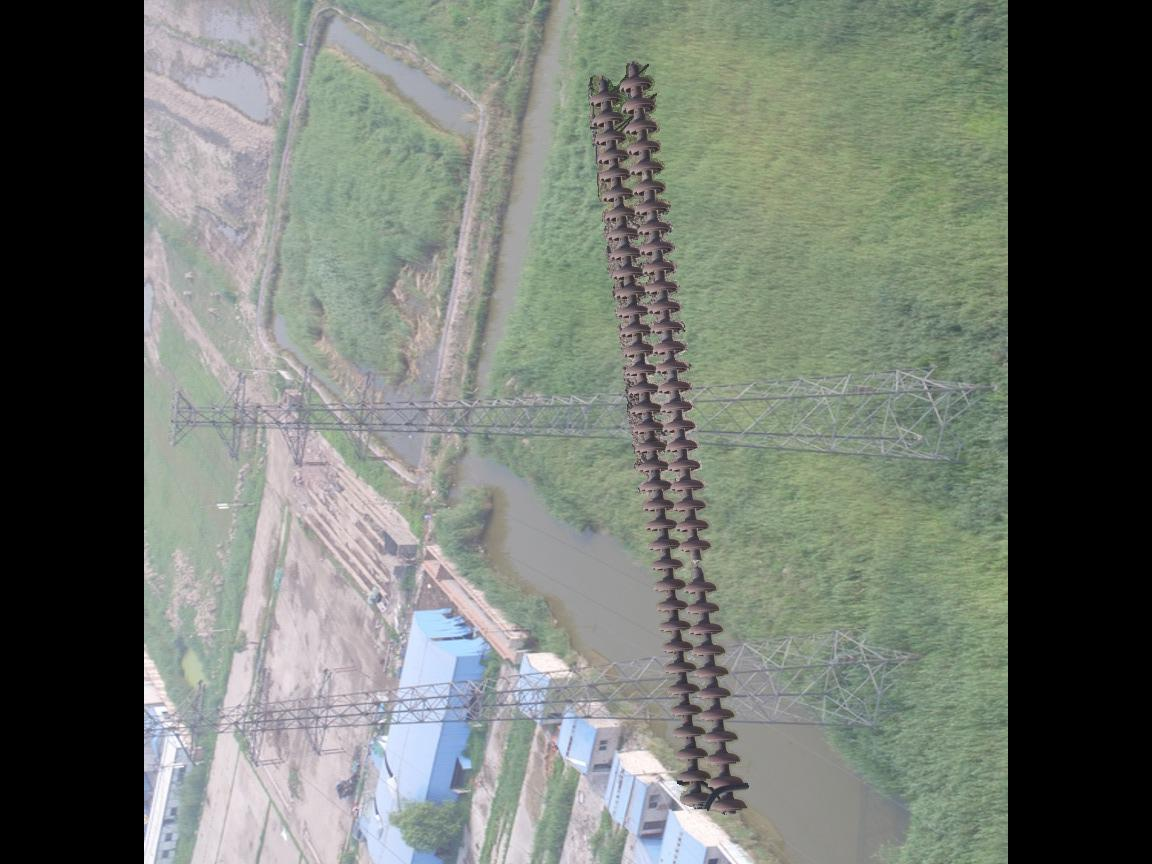insulator: (579, 68, 753, 820)
insulator_stringdrop: (674, 535, 720, 597)
